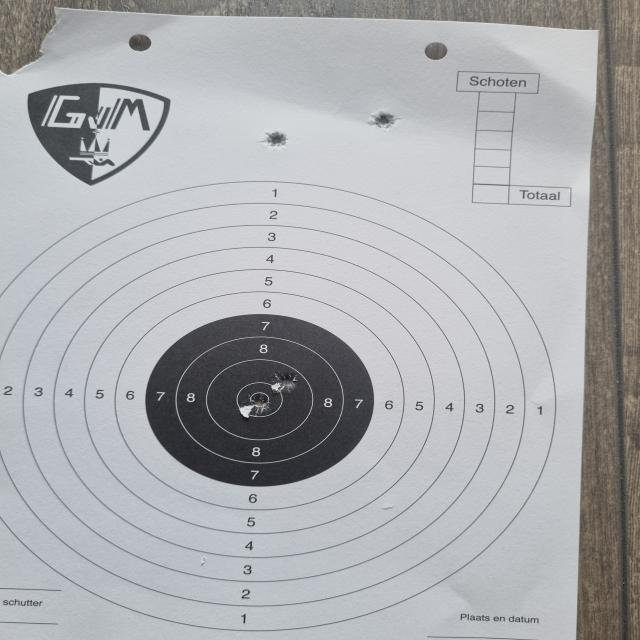0: (364, 110, 401, 131), (261, 131, 289, 149)
10: (271, 372, 298, 396), (245, 392, 270, 413)
Target: (0, 180, 558, 631)
black_contour: (145, 314, 374, 487)
